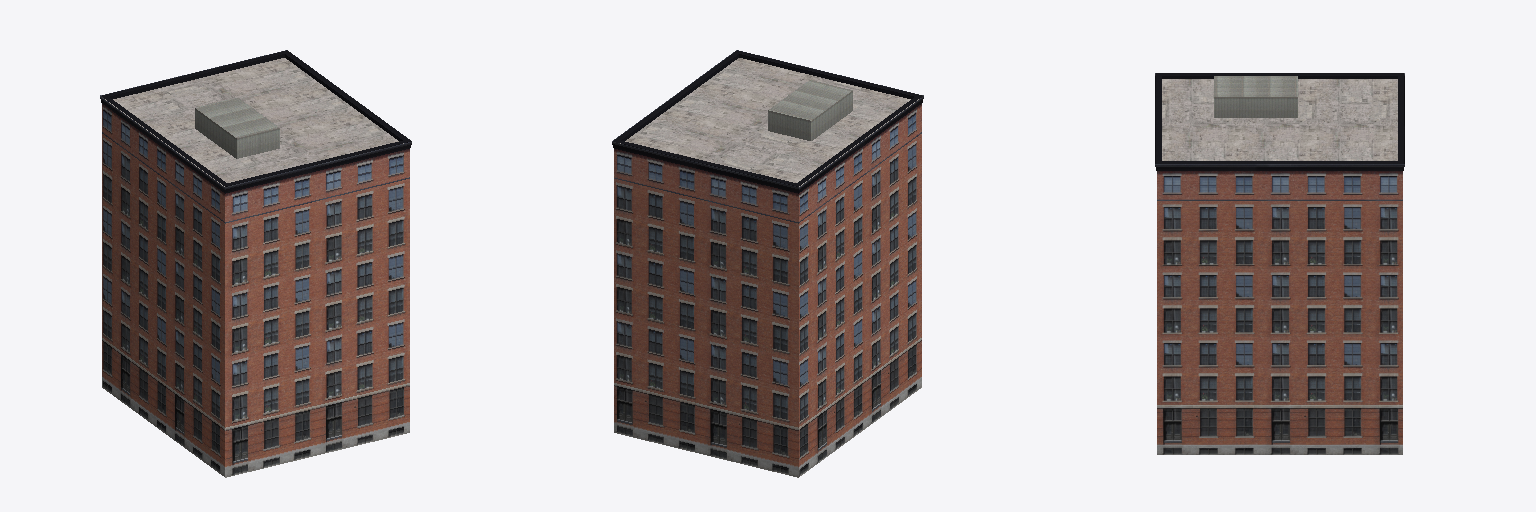
3 renders of one model, left to right at view 1: azimuth 30°, elevation 25°; view 2: azimuth 150°, elevation 25°; view 3: azimuth 270°, elevation 25°, orthographic.
Visible parts, largest first — view 1: building_29; view 2: building_29; view 3: building_29.
Part boxes in pixels (bbox=[...]): building_29: bbox=[100, 50, 411, 477]; building_29: bbox=[612, 50, 923, 477]; building_29: bbox=[1155, 73, 1404, 454].
Bounding box in the file's own units: 59.05 × 92.87 × 68.2.
Materials: 1 (1 with a texture image).